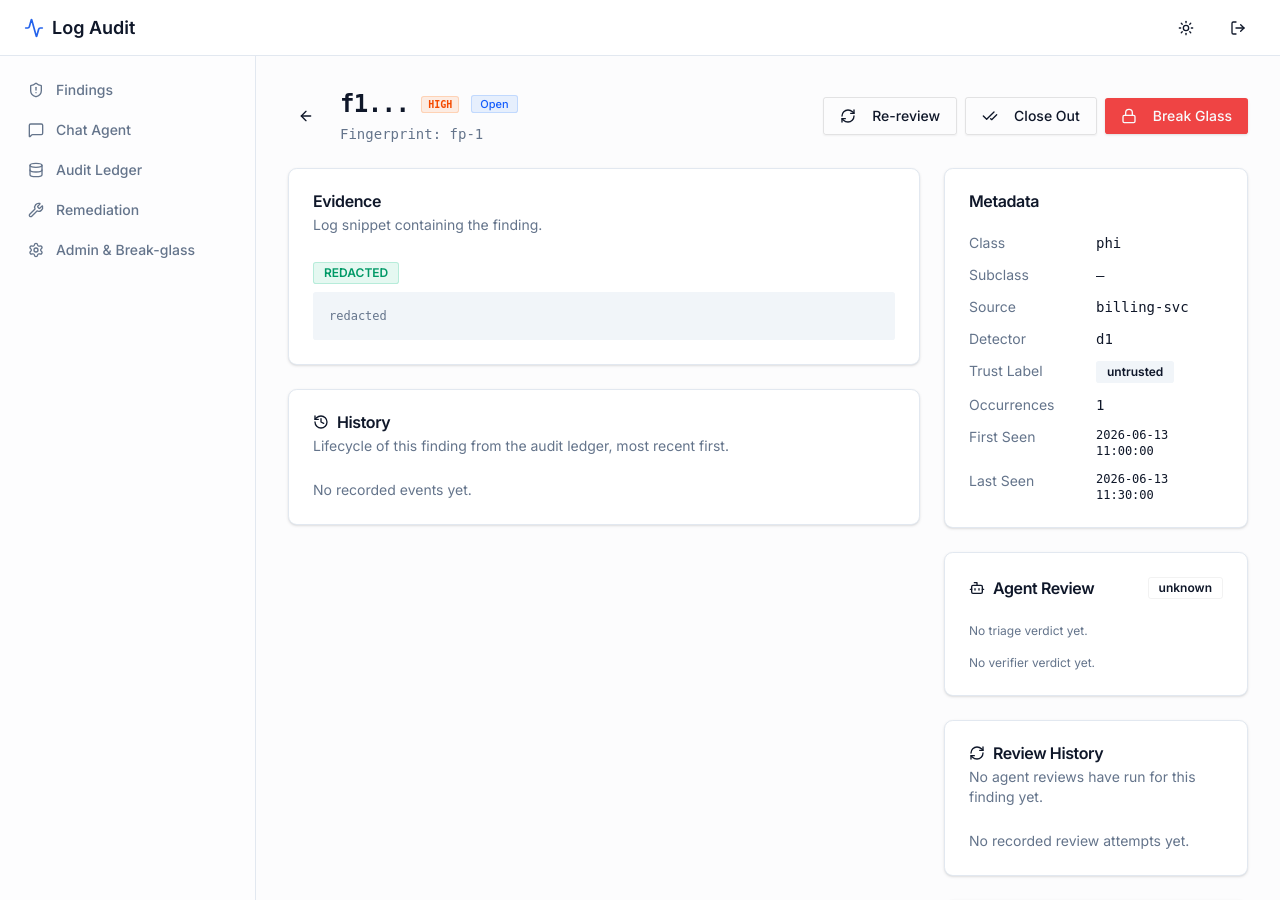
Test case: FindingDetail emergency access countdown › surfaces a non-intrusive warning inside the final 30s before expiry
The width and height of the screenshot is (1280, 900).
Click the button "Break Glass" at (1176, 116), box x1=1105 y1=98 x2=1248 y2=134
Wait 10000 ms
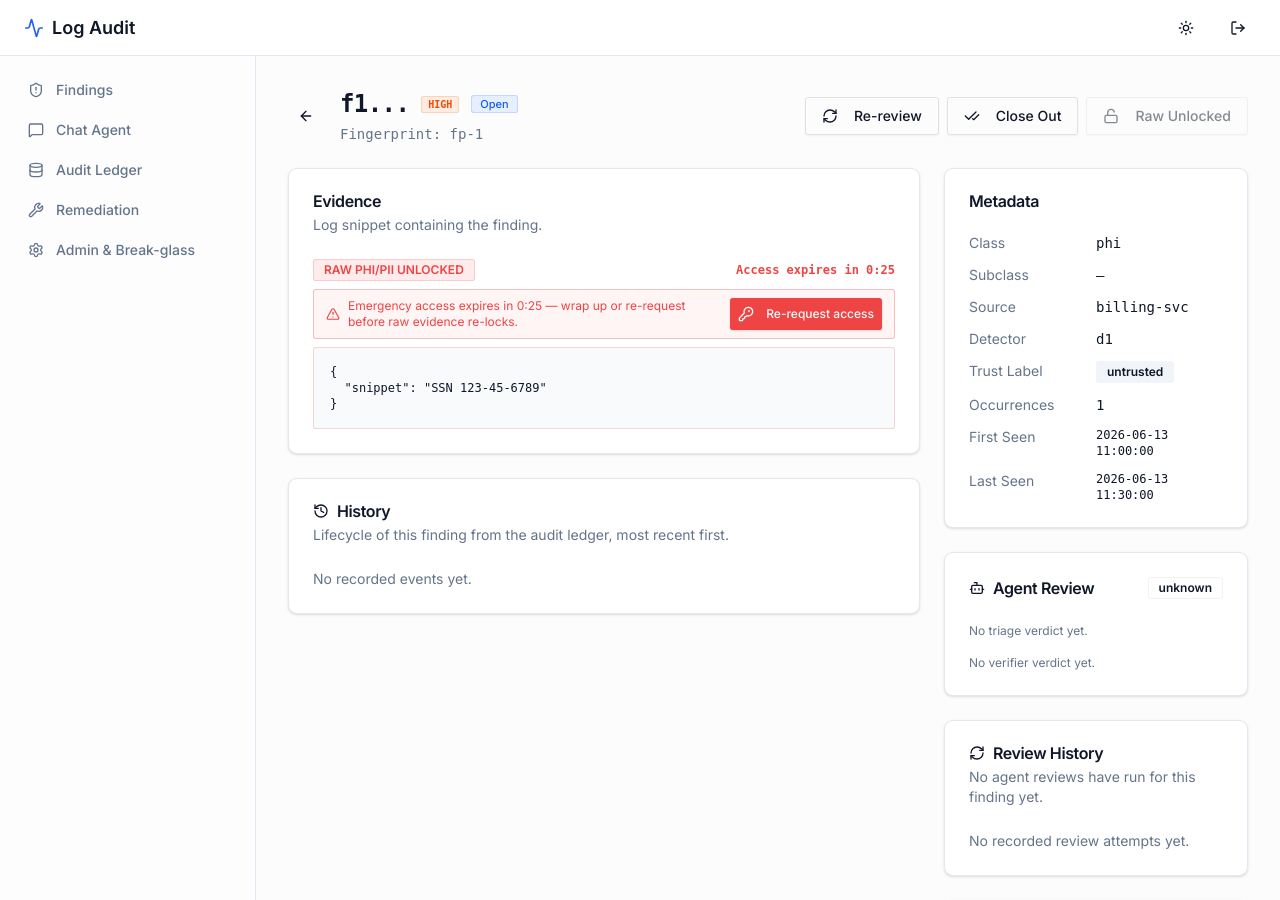
Expected: the message shows "Emergency access expires in", x1=348 y1=298 x2=517 y2=313
